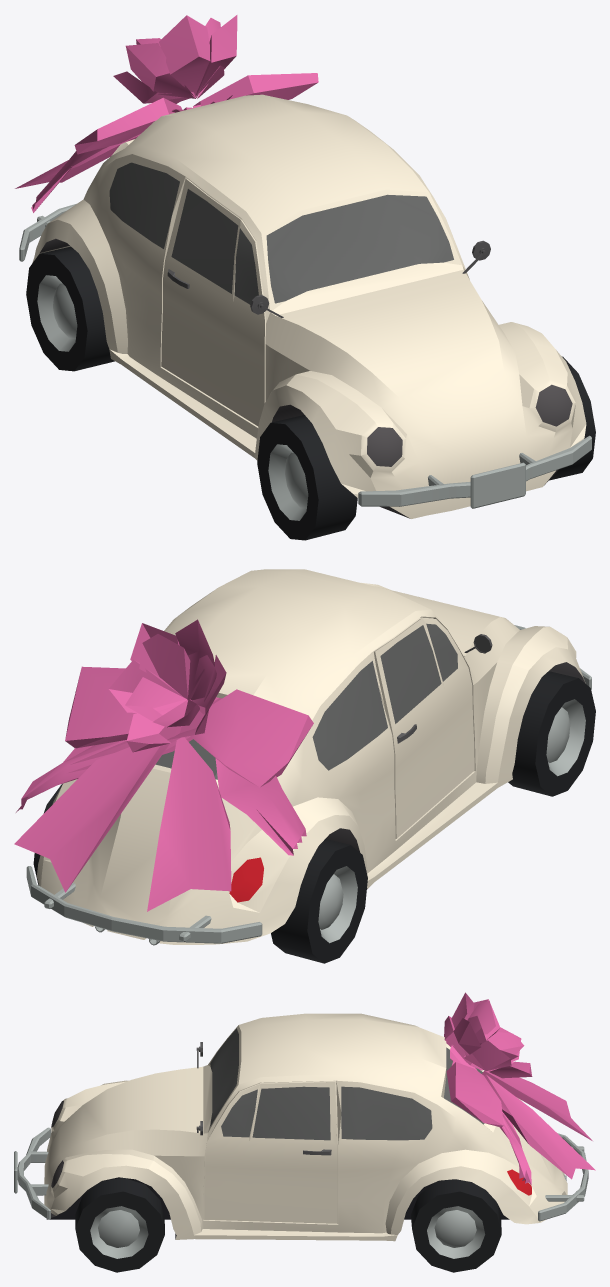
Rendered from wedding_car.fbx.
3 views of the same model, one above another, from view 1: azimuth 30°, elevation 25°; view 2: azimuth 150°, elevation 25°; view 3: azimuth 270°, elevation 25° (orthographic). The views are drawn at different scales.
Visible parts, largest first — view 1: wcar, wcar_wheels, wcar_flower; view 2: wcar, wcar_flower, wcar_wheels; view 3: wcar, wcar_wheels, wcar_flower.
Boxes of the visible parts, x1,y1,x2,y2 form: wcar: (19,94,591,518); wcar_wheels: (26,246,595,540); wcar_flower: (15,15,318,212); wcar: (26,569,591,945); wcar_flower: (14,619,313,911); wcar_wheels: (33,671,595,963); wcar: (14,1013,588,1241); wcar_wheels: (75,1178,501,1272); wcar_flower: (444,992,595,1185).
Bounding box in the file's own units: 15.8 × 17.19 × 39.41.
